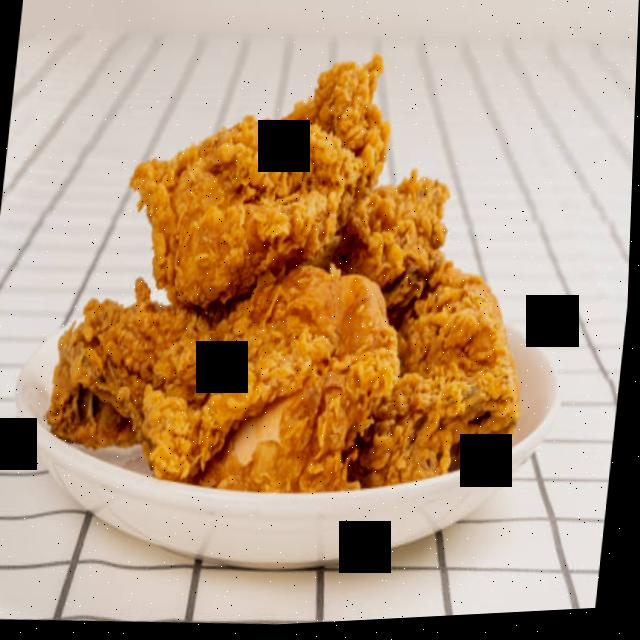Frango: (40, 28, 560, 519)
